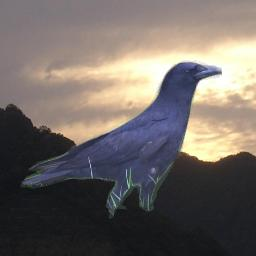Crow: (20, 60, 222, 224)
